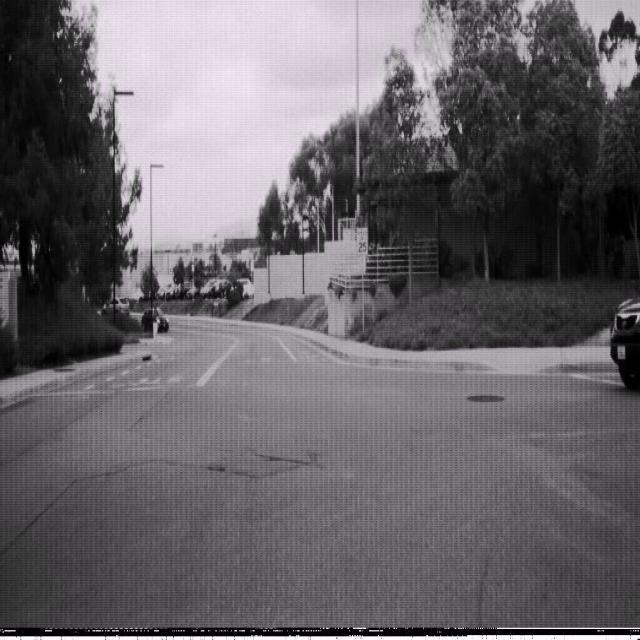speedLimit25: (356, 226, 368, 256)
